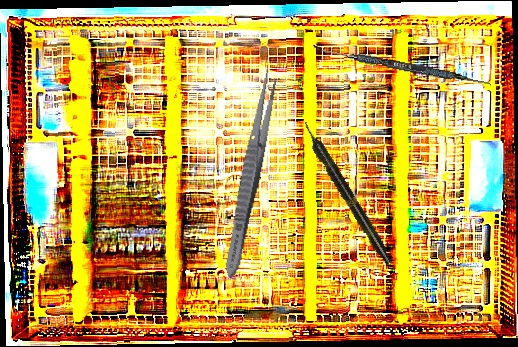Dressing Forceps: (219, 67, 282, 281)
Handpiece: (298, 119, 396, 267)
Spatula Surgical: (311, 45, 493, 87)
